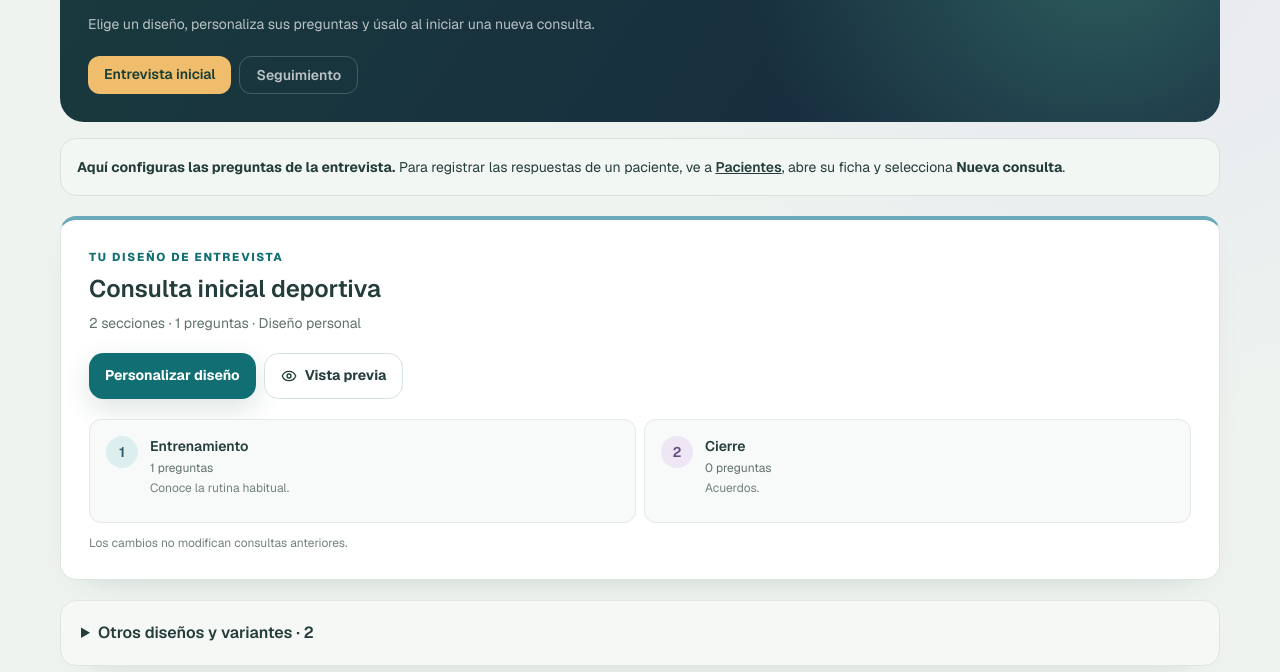
Test: catálogo profesional de plantillas › guides the editor through sections and back to the complete design
The image size is (1280, 672).
Click the button "Personalizar diseño". click: (172,376)
box: [89,353,256,399]
(page scrolled)
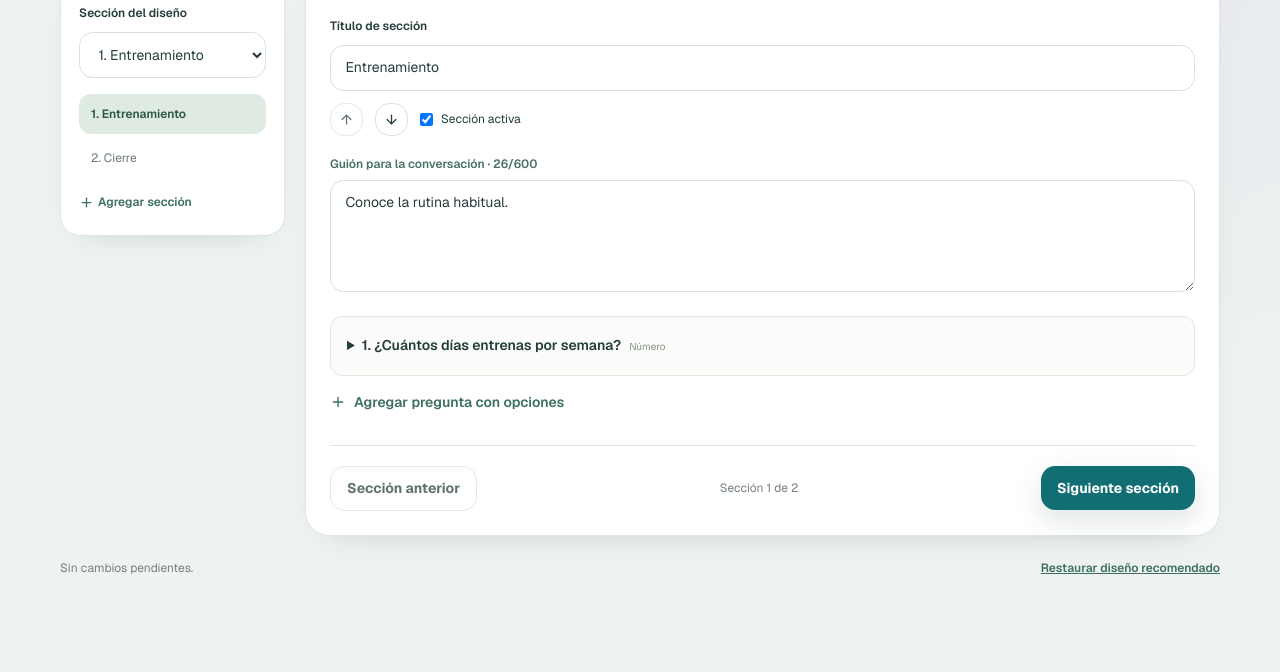
Now the text "Sección 1 de 2" is shown, box [720,480,798,496]
Click the button "Siguiente sección". click: (1118,488)
box: [1041,466,1195,510]
(page scrolled)
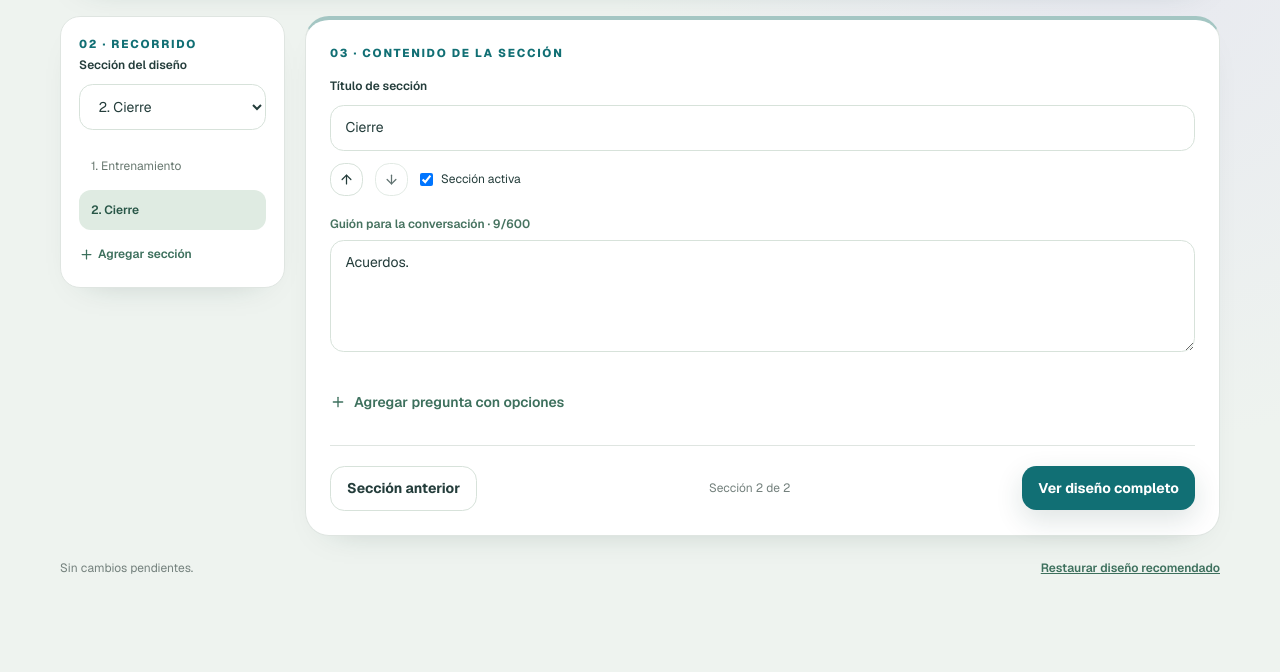
Now the text "Sección 2 de 2" is shown, box [709,480,790,496]
Now the field labelled "Título de sección" holds "Cierre", box [330,105,1195,151]
Click the button "Ver diseño completo". click: (1109,488)
box: [1022,466,1195,510]
(page scrolled)
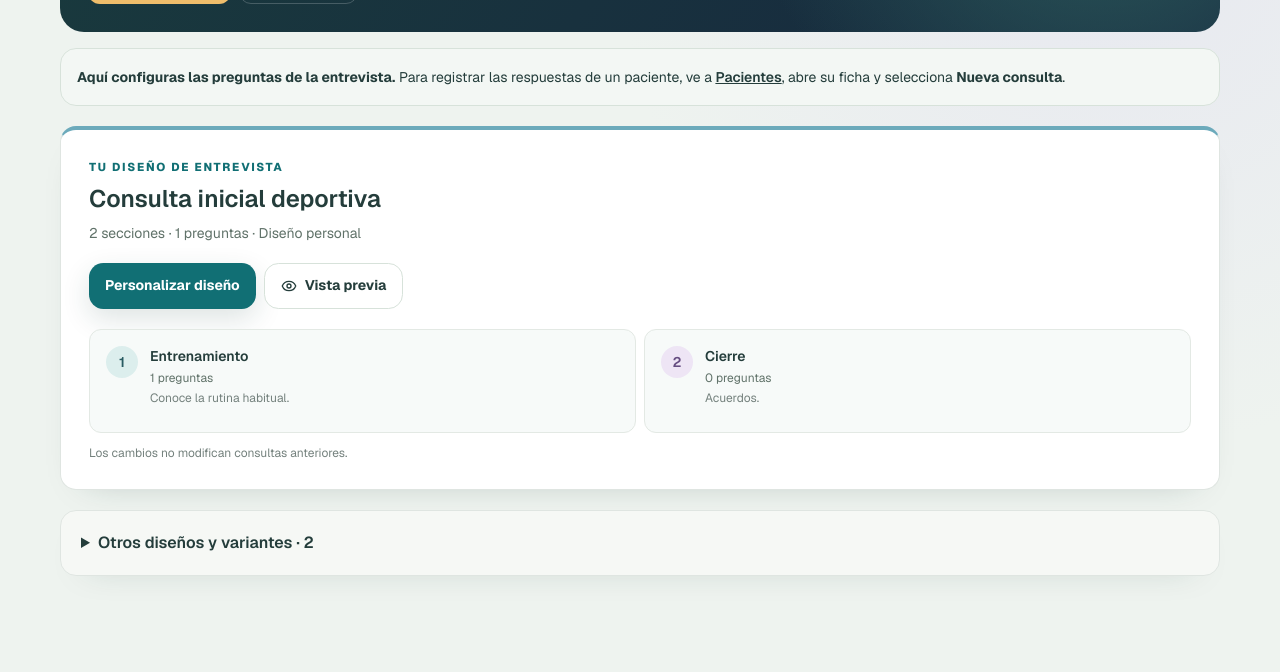
Now the element "Tu diseño de entrevista" is shown, box [60,126,1220,490]
